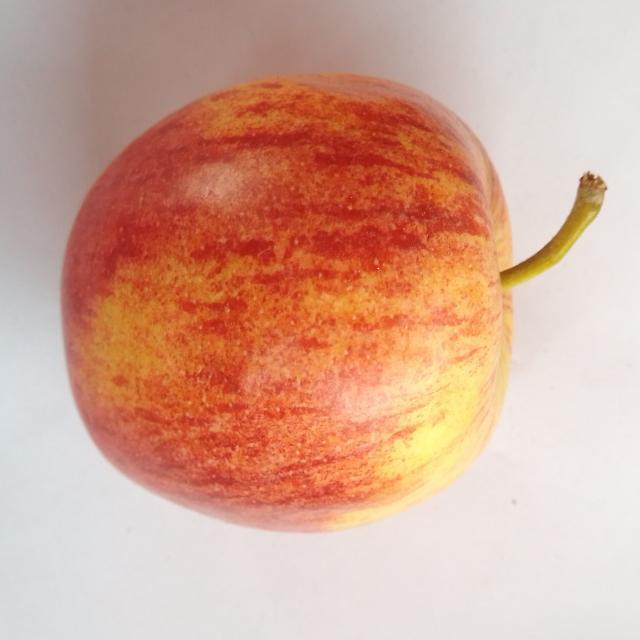Fresh Apple: (55, 95, 510, 530)
